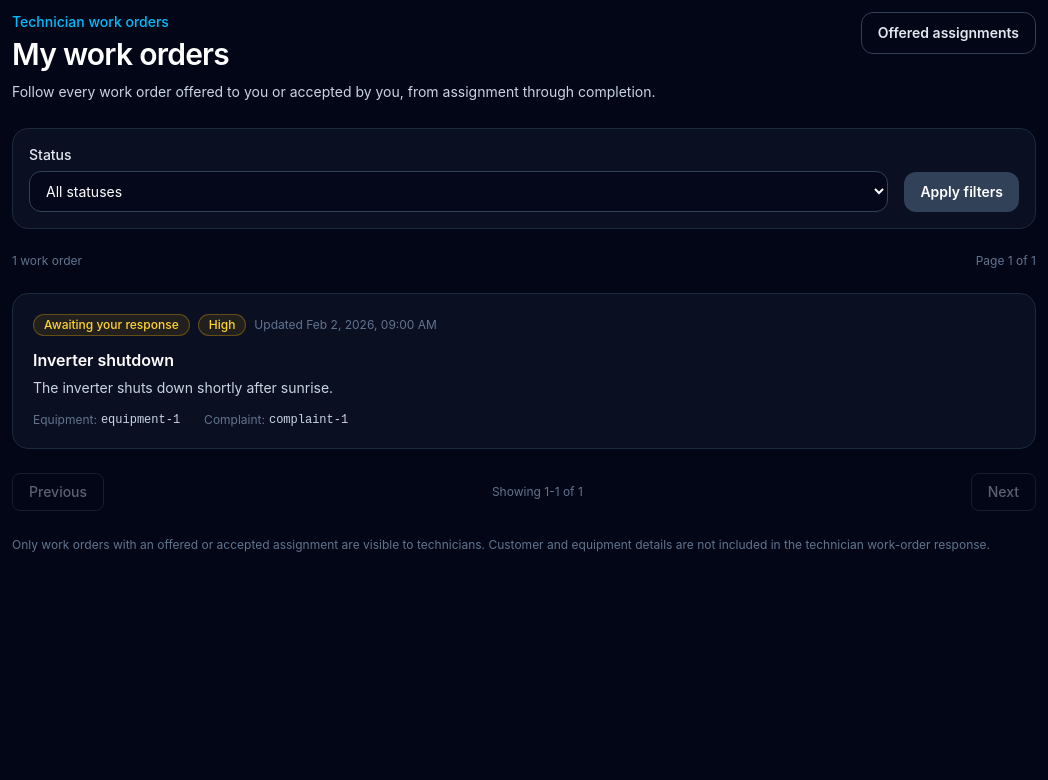
Test: technician work orders apply supported status filters
The image size is (1048, 780).
Expected: the heading "Inverter shutdown" is shown, [33, 350, 174, 370]
Select "In progress" in the dropdown labelled "Status". click: (459,192)
box: [29, 171, 888, 212]
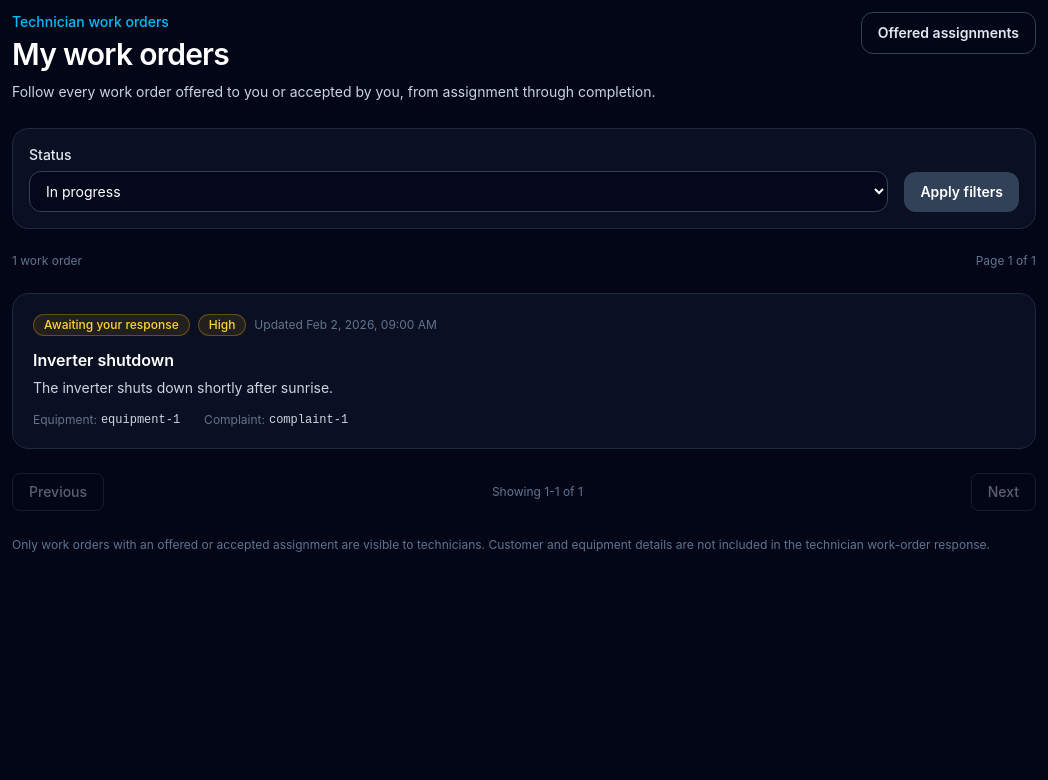
Click the button "Apply filters". click: (962,192)
box: [904, 172, 1019, 212]
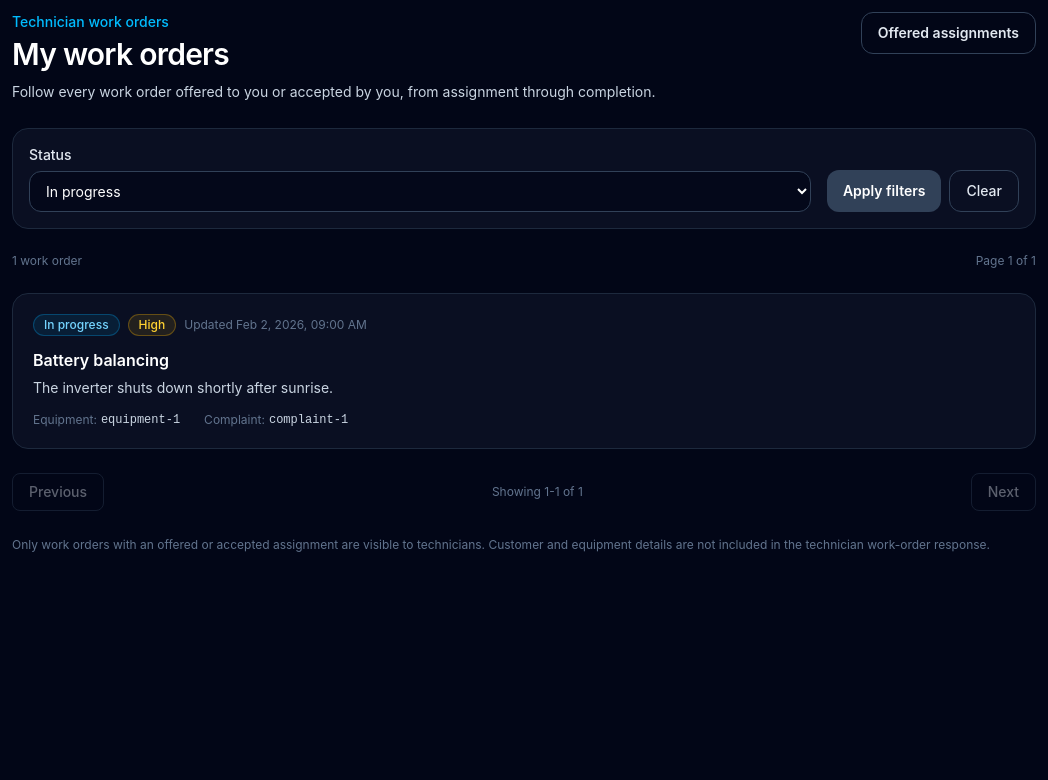
Now the heading "Battery balancing" is shown, box [33, 350, 169, 370]
